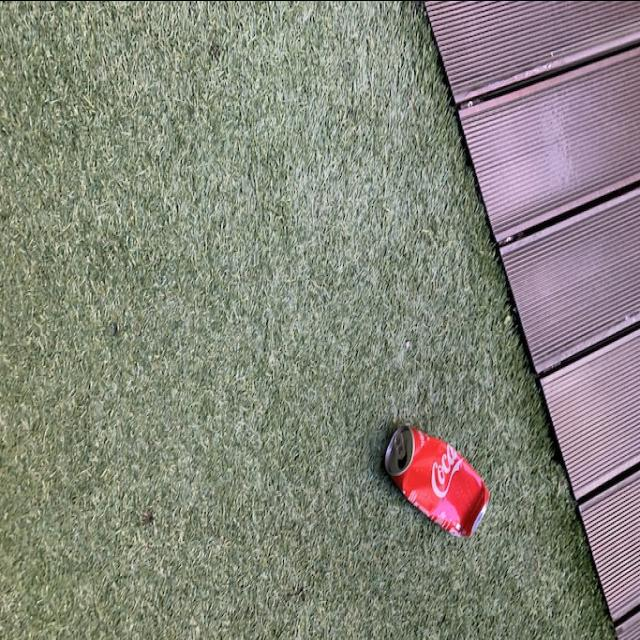litter: (380, 421, 490, 541)
